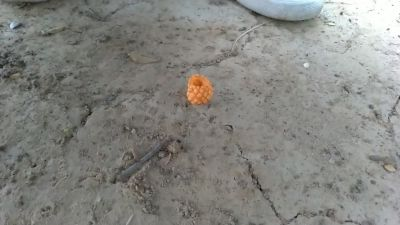eggs: (187, 74, 209, 102)
